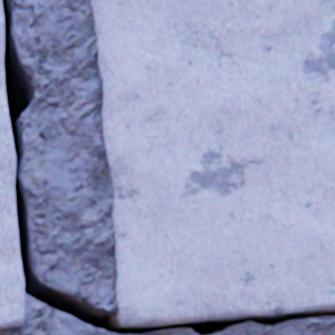brick: (91, 0, 334, 326), (0, 0, 24, 328)
crack: (2, 0, 334, 334)
